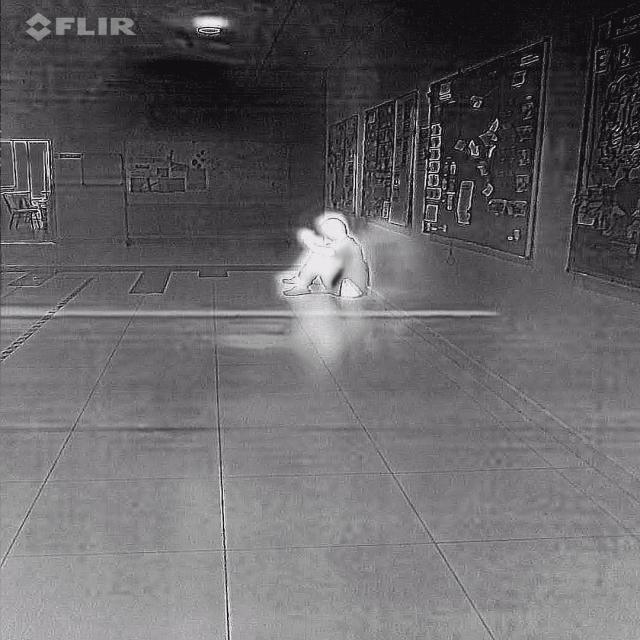Victim: (260, 203, 387, 310)
